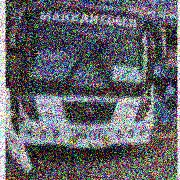bus: (8, 7, 166, 150)
